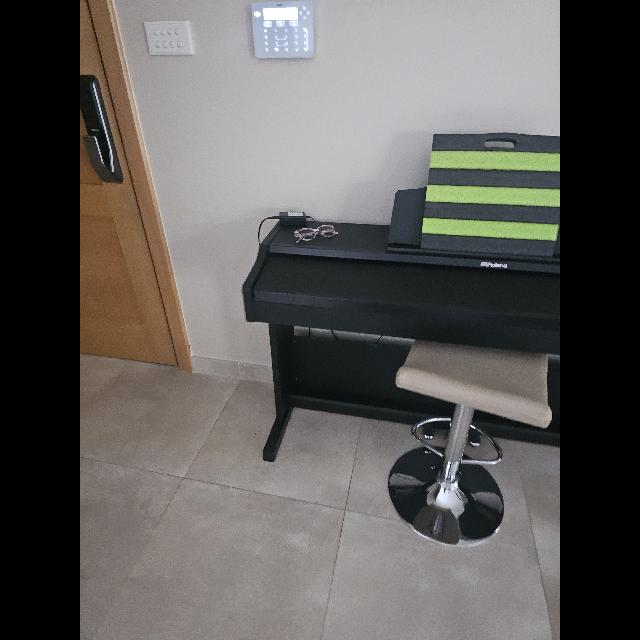glasses: (294, 225, 338, 243)
